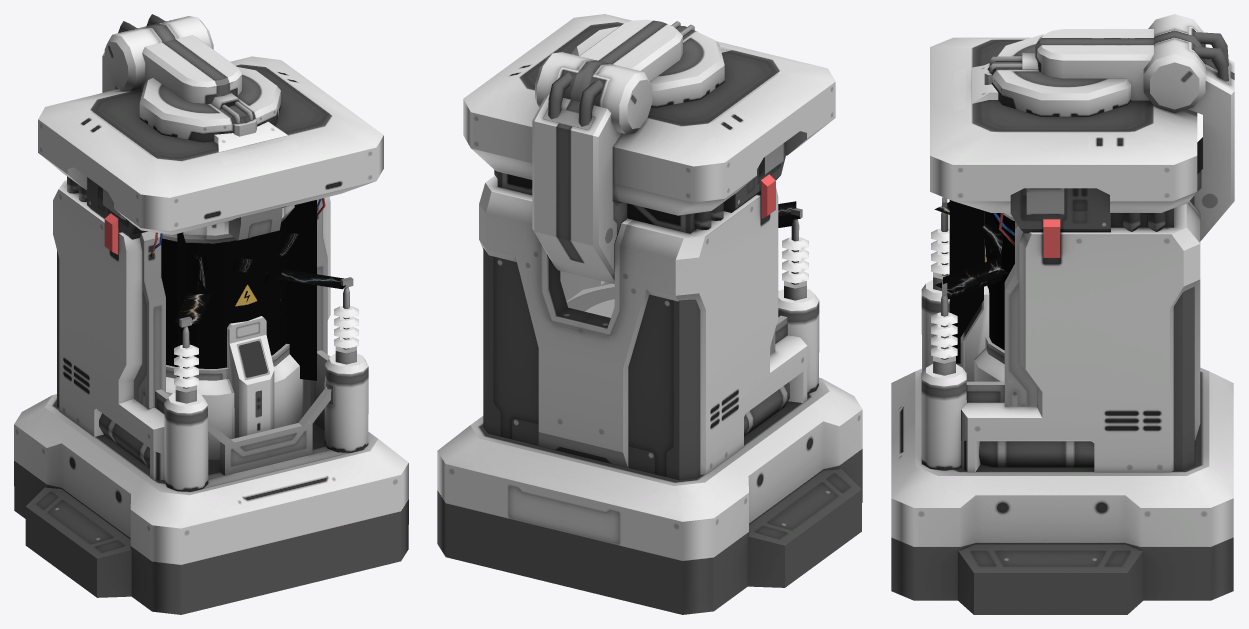
Rendered from accumulator.glb.
3 views of the same model, side by side, from view 1: azimuth 30°, elevation 25°; view 2: azimuth 150°, elevation 25°; view 3: azimuth 270°, elevation 25° (orthographic). The views are drawn at different scales.
Visible parts, largest first — view 1: accumulator, accumulator-effect, accumulator-effect-1; view 2: accumulator; view 3: accumulator, accumulator-effect-1, accumulator-effect.
Boxes of the visible parts, x1,y1,x2,y2 form: accumulator: [14, 14, 408, 614]; accumulator-effect: [161, 218, 286, 368]; accumulator-effect-1: [163, 200, 345, 380]; accumulator: [437, 14, 862, 614]; accumulator: [891, 14, 1234, 614]; accumulator-effect-1: [934, 200, 1014, 363]; accumulator-effect: [985, 211, 1014, 350].
Bounding box in the file's own units: 3.2 × 4.57 × 2.85.
3 materials, 3 textured.
